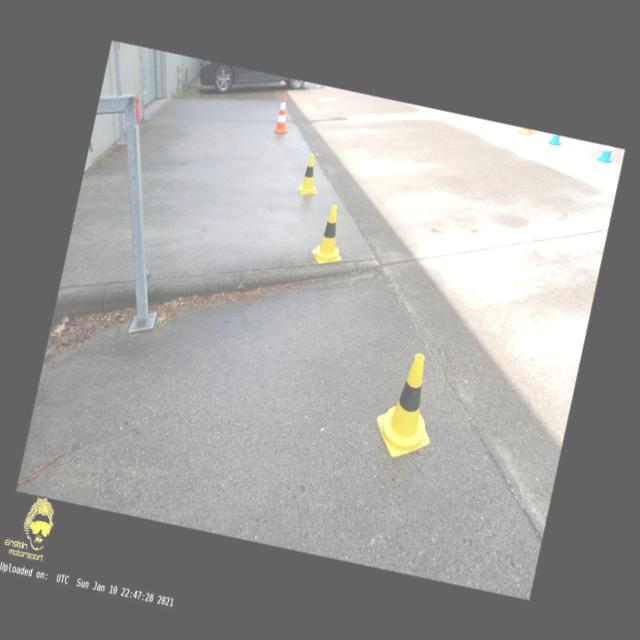blue_cone: (594, 144, 614, 164), (546, 133, 563, 146)
large_orange_cone: (272, 91, 294, 135)
yellow_cone: (369, 346, 447, 464), (309, 202, 352, 268), (296, 152, 324, 197)
